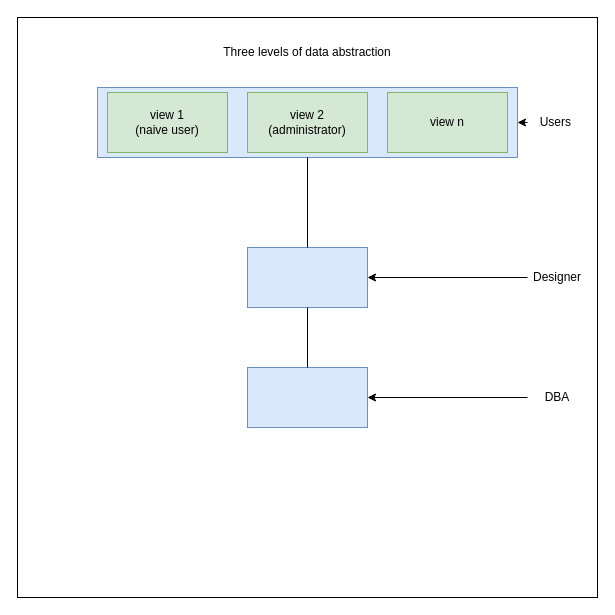
The diagram is 615 pixels wide and 615 high, and some of its shapes have lost their labels. The shapes that lost their labels are listed below. From the top down, each one's centre as x and y in pixels, then its label:
the point at 307,277: Logical Layer (what data is stored)
the point at 307,397: Physical Layer (files, indexes)
